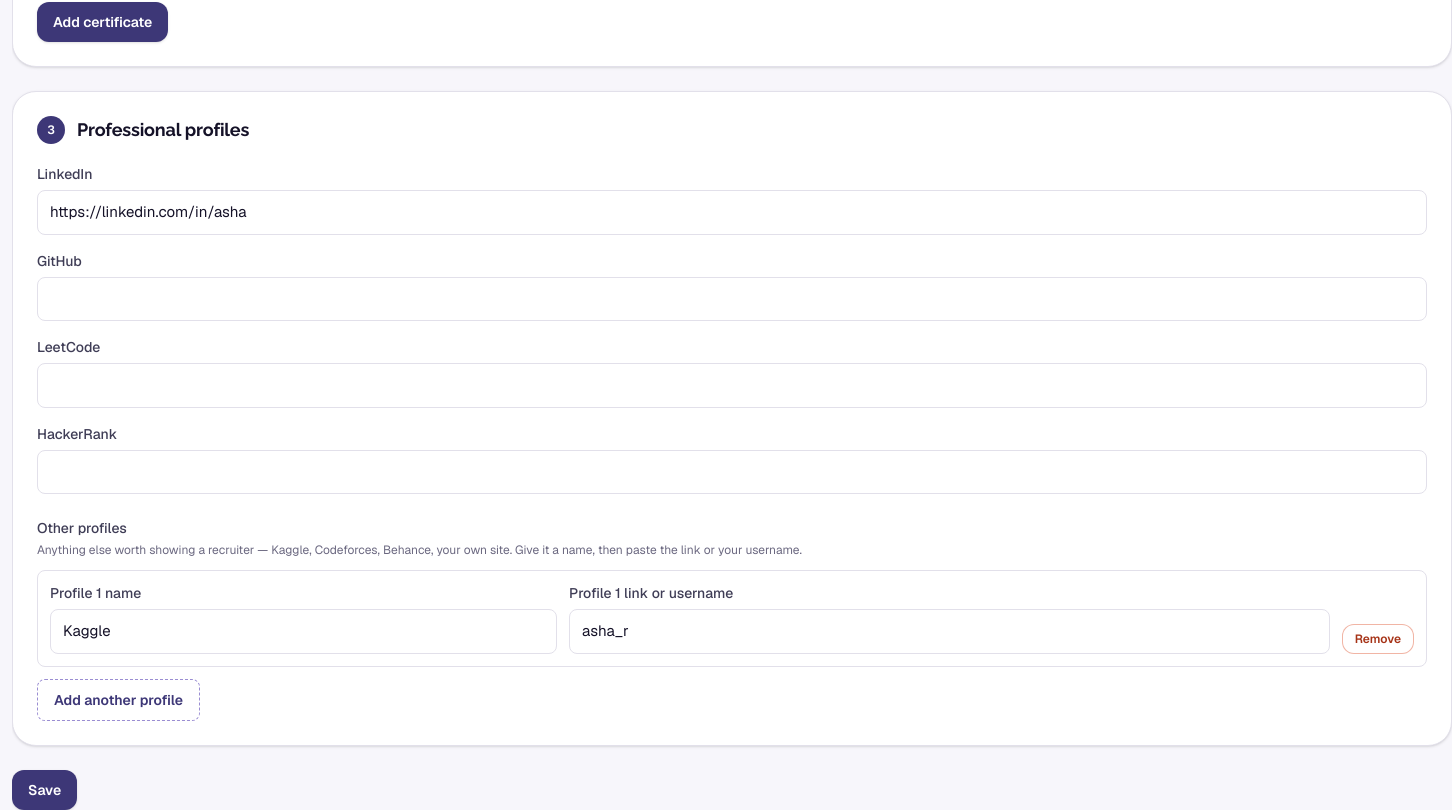
ProfileEditPage › says so when it could not save, rather than pretending
(page scrolled)
Click the button "Save" at (45, 790), box [12, 770, 77, 809]
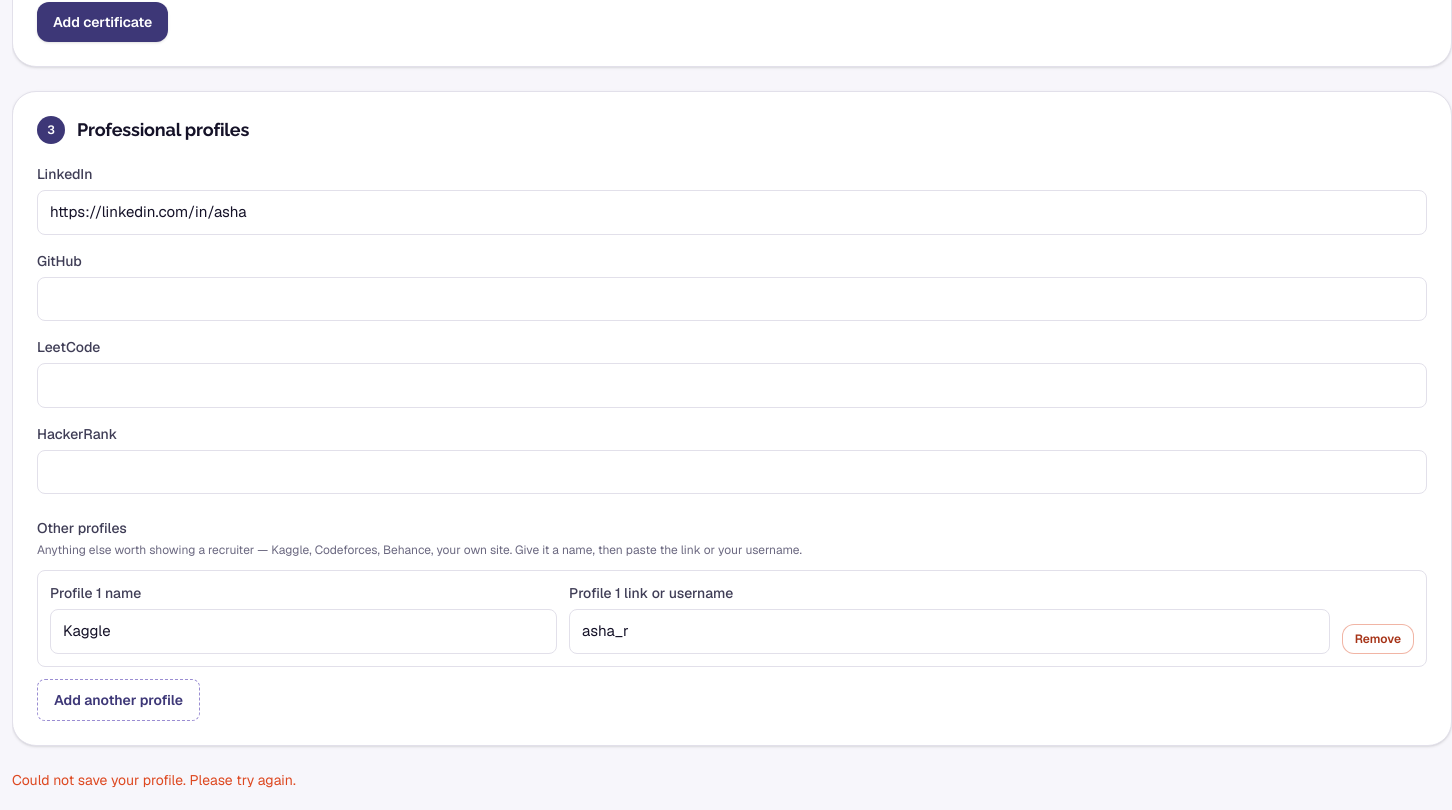
Now the text "Could not save your profile. Please try again." is shown, box [12, 770, 296, 788]
